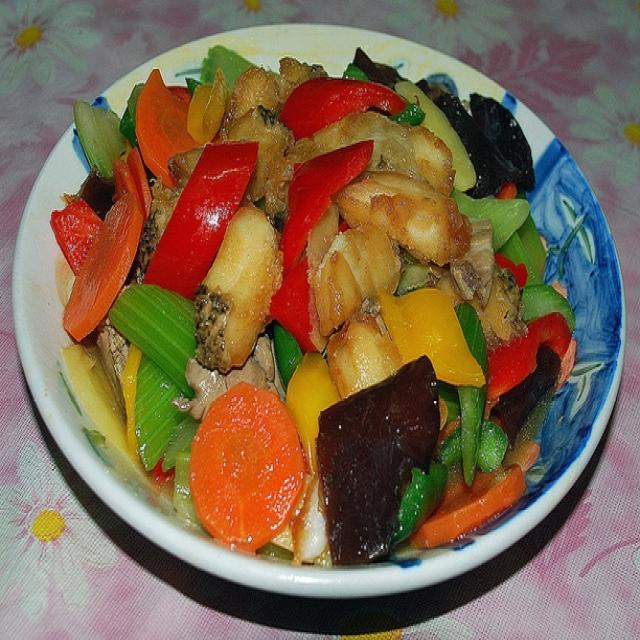蔬菜料理: (42, 42, 605, 584)
